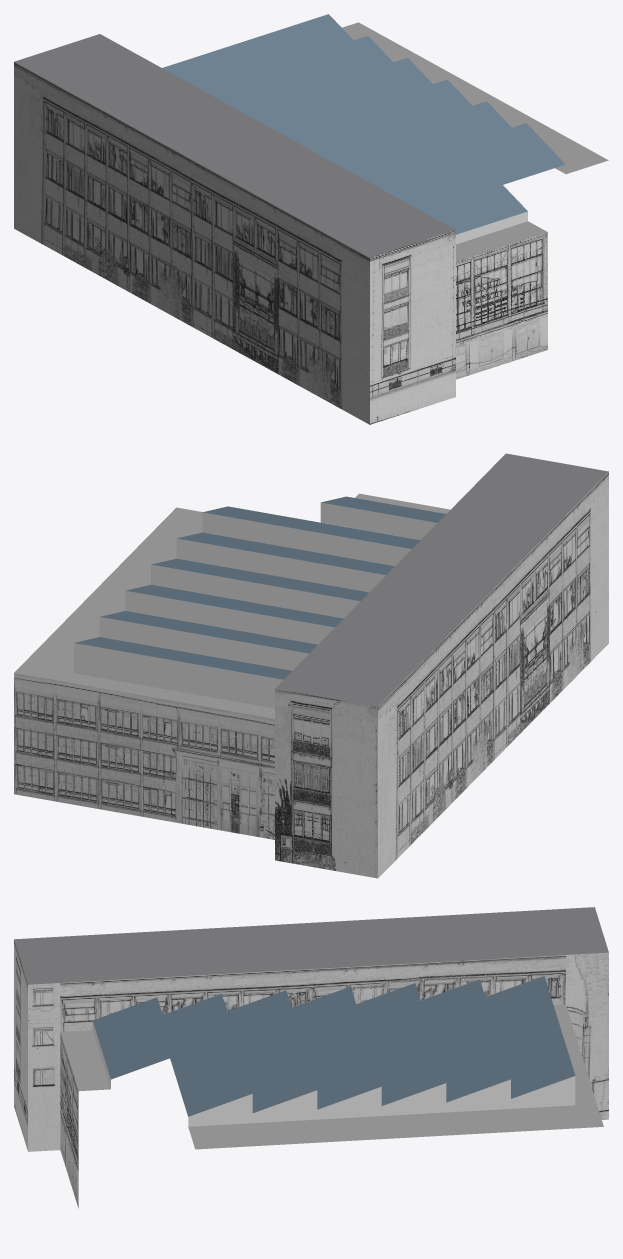
File: Kutzbach-Bau.gltf
3 views of the same model, one above another, from view 1: azimuth 30°, elevation 25°; view 2: azimuth 150°, elevation 25°; view 3: azimuth 270°, elevation 25° (orthographic). The views are drawn at different scales.
Visible parts, largest first — view 1: Dach.1; view 2: Dach.1; view 3: Dach.1.
Part boxes in pixels (box(x1,y1,x2,y2)): Dach.1: box(14, 14, 608, 424); Dach.1: box(14, 453, 608, 878); Dach.1: box(14, 907, 608, 1208).
Size of the model in its own units: 42.14 by 17 by 54.84.
12 materials, 8 textured.
